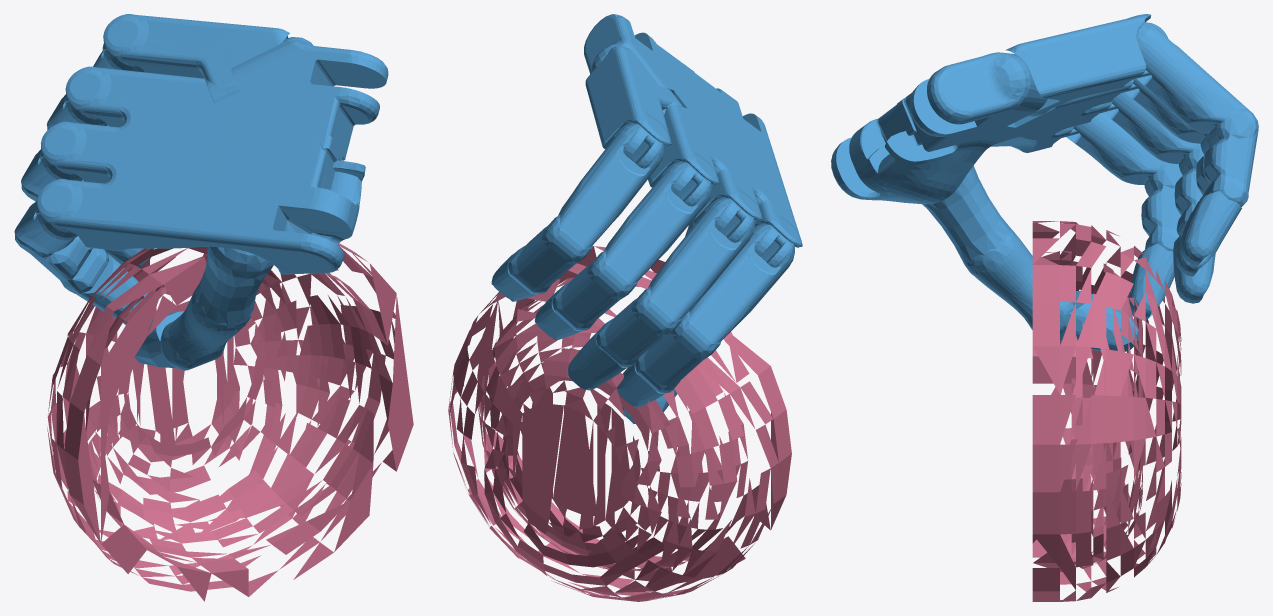
The picture shows the model from 3 angles, left to right: view 1: azimuth 30°, elevation 25°; view 2: azimuth 150°, elevation 25°; view 3: azimuth 270°, elevation 25°; orthographic projection. The views are drawn at different scales.
Visible parts, largest first — view 1: 6; view 2: 6; view 3: 6.
Boxes of the visible parts, <box> form: 6: <box>14,14,413,601</box>; 6: <box>448,14,802,601</box>; 6: <box>831,14,1258,601</box>.
Bounding box in the file's own units: 0.1492 × 0.2217 × 0.1562.
